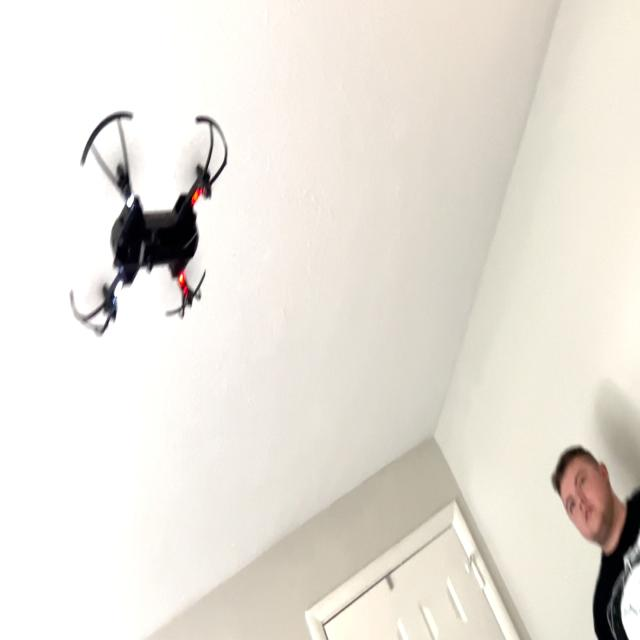drone: (62, 95, 236, 351)
